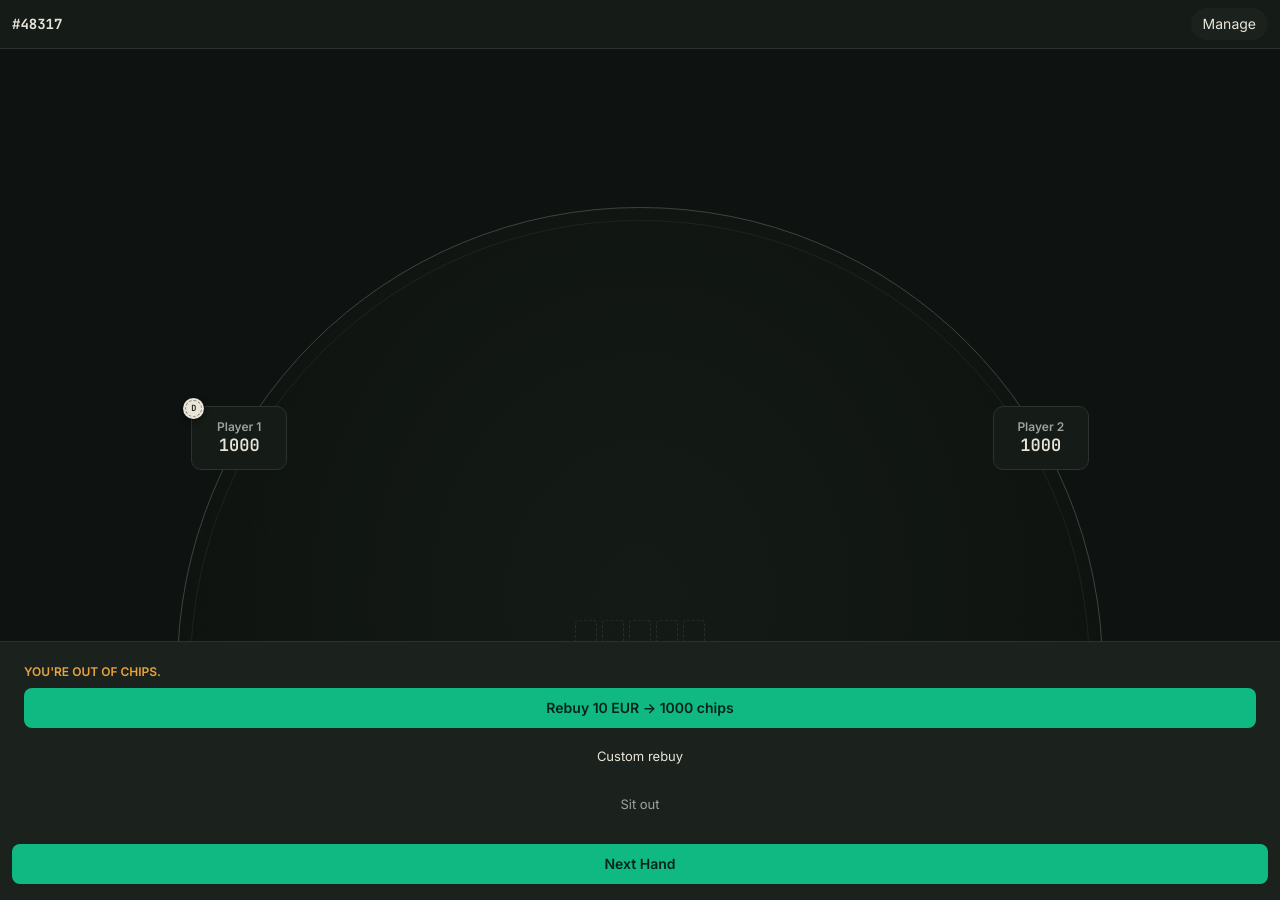
Test: needs-rebuy prompt card › custom rebuy opens the Manage drawer directly on the rebuy view, preselected to the viewer
Click the button "Custom rebuy".
click(640, 756)  # box [24,736,1256,776]
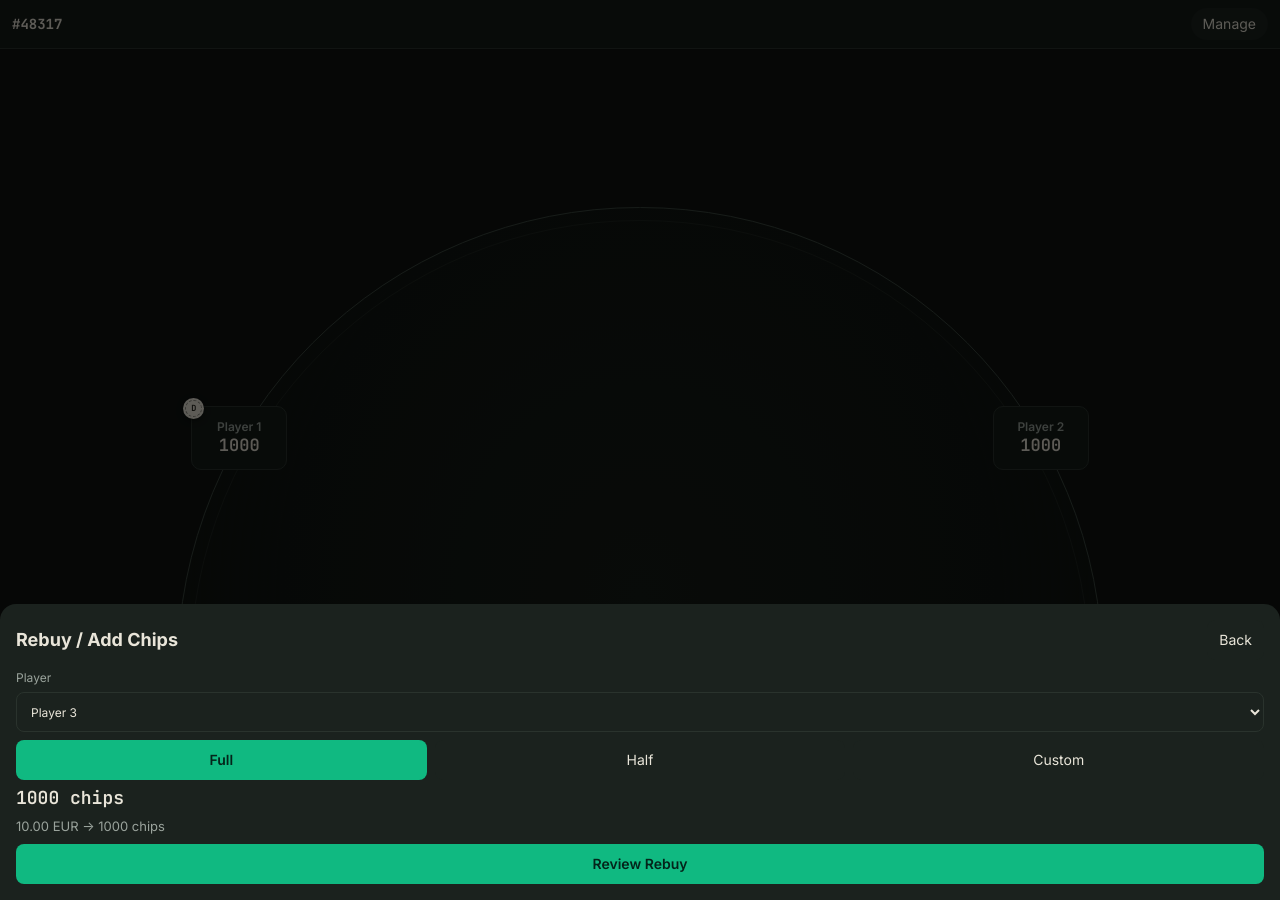
Check: the dialog named "manage" is shown
Check: the heading "Rebuy / Add Chips" is shown, box [16,630,178,650]
Check: the dropdown shows "Player 3", box [16,692,1264,732]
